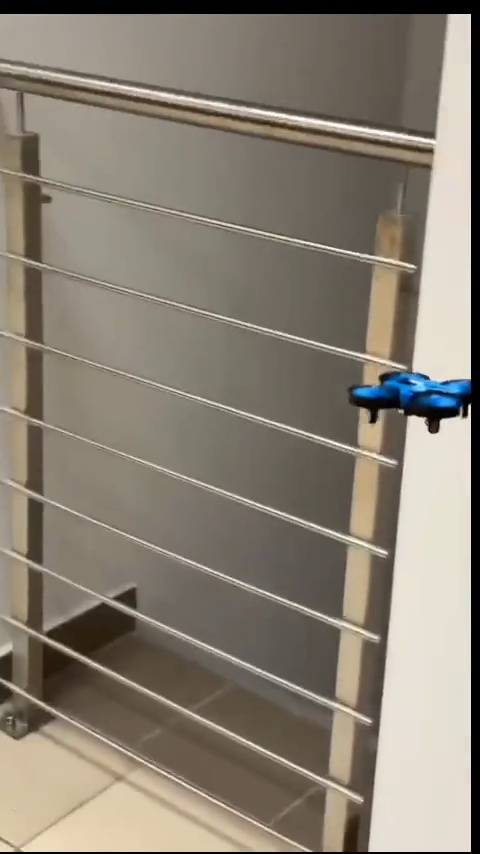drone: (353, 370, 471, 432)
